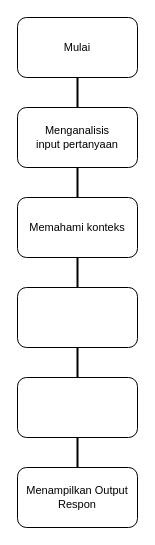
This 155x545 diagram has some shape labels left out. The centre of each missing label's shape, as x and y in pixels:
"Mengenali Pola" belongs at (x=77, y=317).
"Menghasilkan Respon" belongs at (x=77, y=407).
